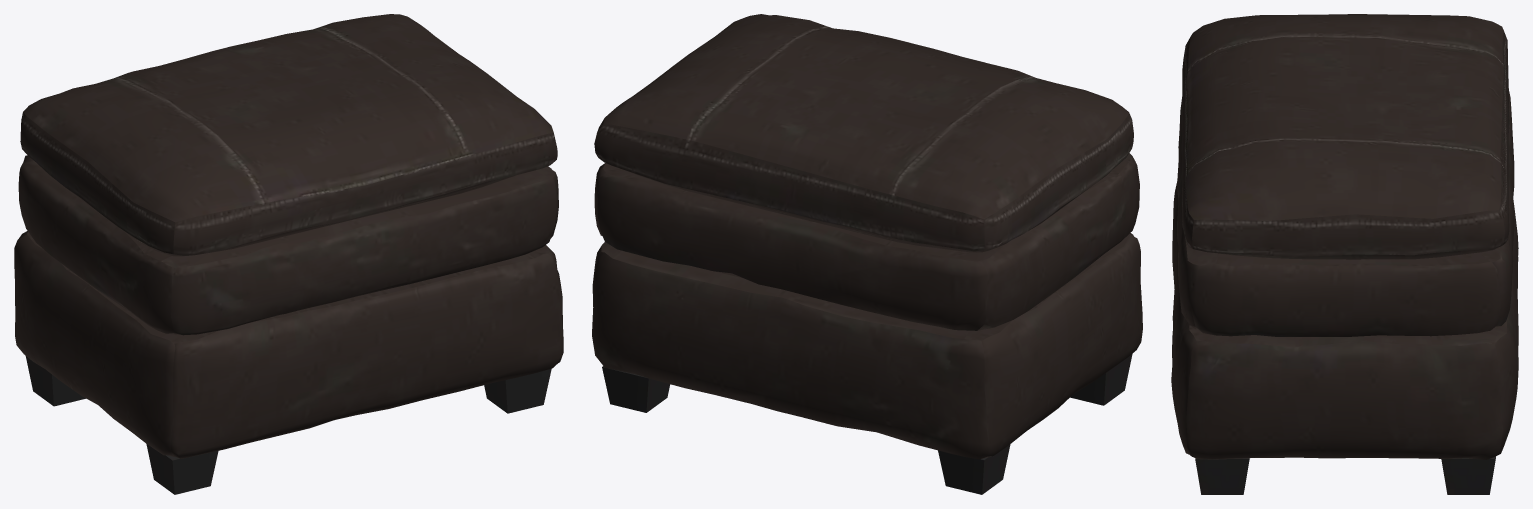
The model's file is ottoman.glb.
The picture shows the model from 3 angles, left to right: view 1: azimuth 30°, elevation 25°; view 2: azimuth 150°, elevation 25°; view 3: azimuth 270°, elevation 25°; orthographic projection.
Visible parts, largest first — view 1: Ottoman_01; view 2: Ottoman_01; view 3: Ottoman_01.
Part boxes in pixels (x1=…): Ottoman_01: x1=14, y1=14, x2=563, y2=494; Ottoman_01: x1=592, y1=14, x2=1142, y2=494; Ottoman_01: x1=1171, y1=14, x2=1518, y2=494.
Size of the model in its own units: 0.8846 by 0.6243 by 0.6212.
1 material, 1 textured.
